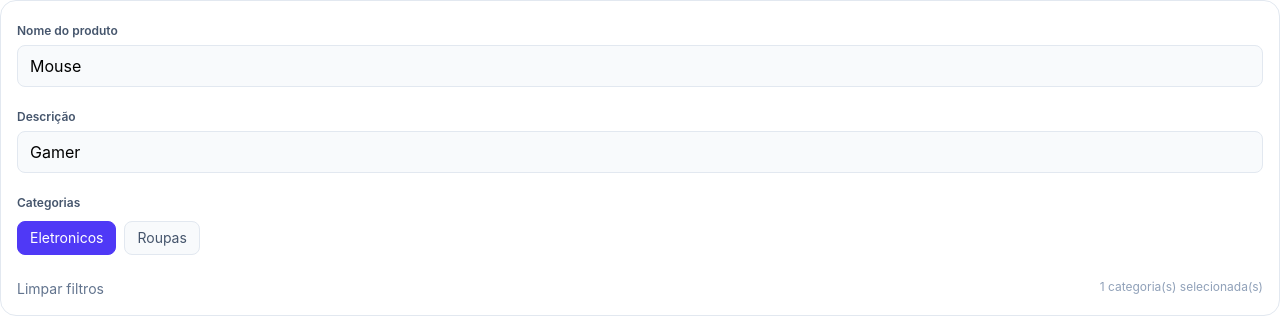
Scenario: ProductFilters › limpar filtros › deve limpar os inputs locais ao clicar em Limpar filtros
What coordinates should you click on to do the following:
click the button "Limpar filtros"
I would click on:
 (60, 289)
Its box is [17, 279, 104, 299].
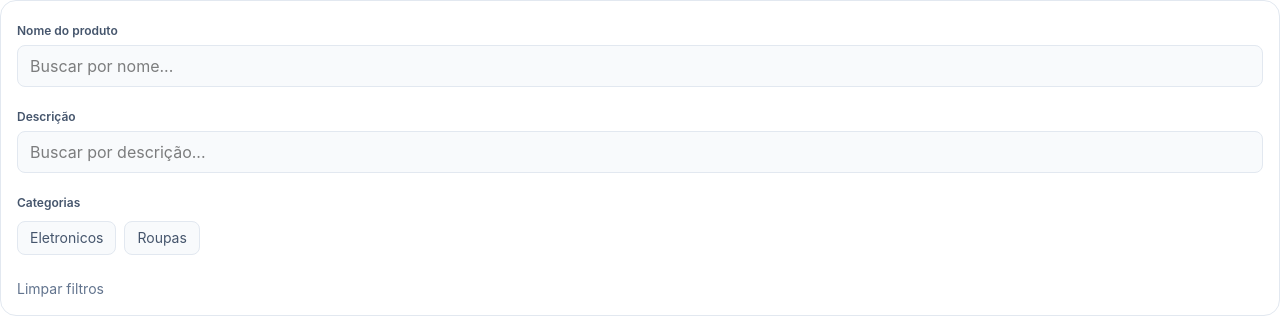
Check: the field with placeholder "Buscar por nome..." is empty, box [17, 45, 1263, 87]
Check: the field with placeholder "Buscar por descrição..." is empty, box [17, 131, 1263, 173]
